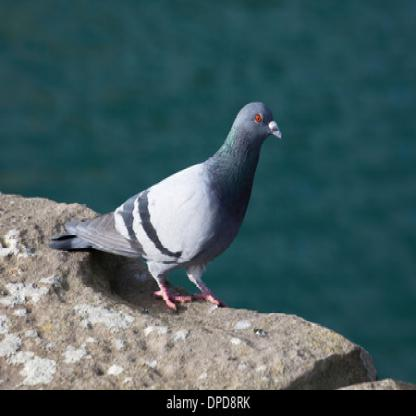Rock Pigeon: (62, 101, 284, 285)
